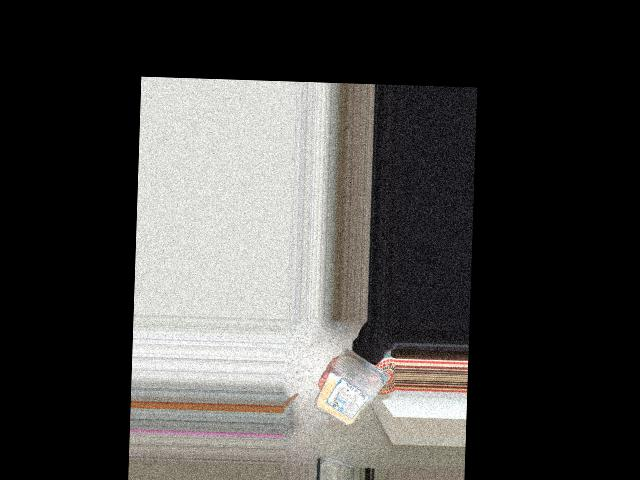cheese: (319, 355, 384, 428)
